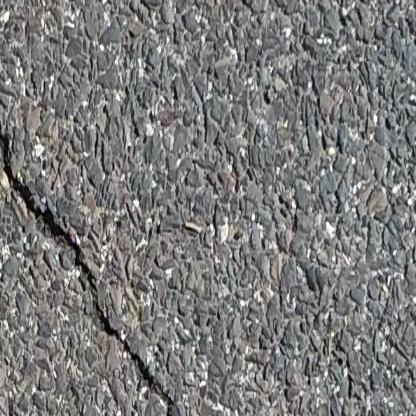Cracks: (46, 312, 416, 416), (0, 94, 120, 326)
